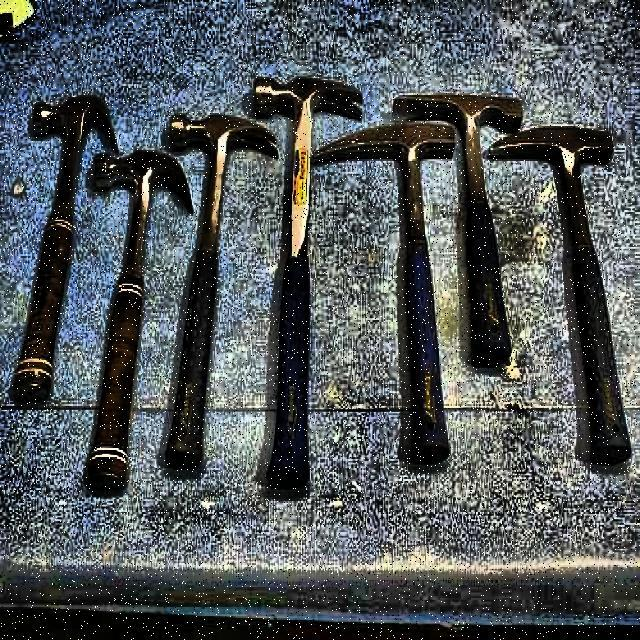hammer: (312, 121, 458, 463), (486, 126, 634, 462), (255, 71, 365, 483), (382, 92, 525, 357), (170, 111, 276, 464), (92, 147, 192, 491), (15, 96, 117, 407)
